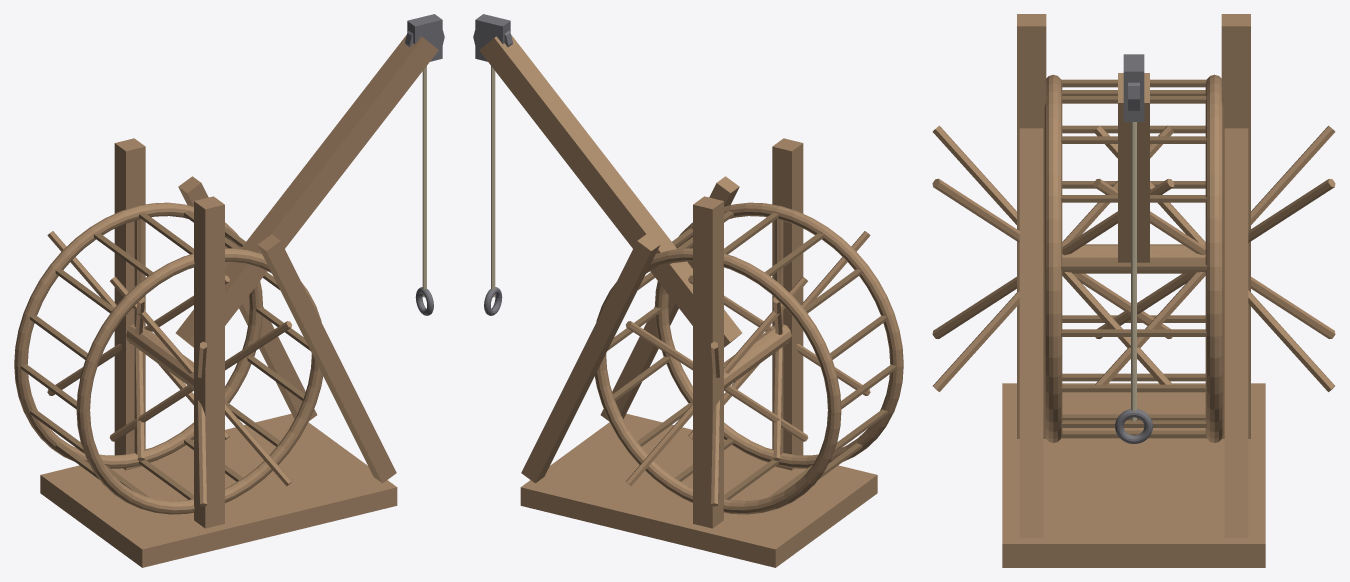
Rendered from treadwheel_crane.glb.
The picture shows the model from 3 angles, left to right: view 1: azimuth 30°, elevation 25°; view 2: azimuth 150°, elevation 25°; view 3: azimuth 270°, elevation 25°; orthographic projection. The views are drawn at different scales.
Parts seen in each view (by area): view 1: Cube, Cube.021, Cube.001, Torus, Torus.001, Cube.003, Cube.002, Cube.004, Cylinder, Cylinder.006, Cylinder.002, Cylinder.014 (+7 smaller); view 2: Cube, Cube.021, Cube.003, Torus.001, Torus, Cube.001, Cube.004, Cube.002, Cylinder, Cylinder.009, Cylinder.011, Cylinder.014 (+7 smaller); view 3: Cube, Cube.002, Cube.004, Torus, Torus.001, Cube.001, Cube.003, Cube.021, Cylinder.003, Cylinder.012, Cylinder, Cylinder.006 (+23 smaller).
Part boxes in pixels (left/top/right/bottom): Cube: left=40, top=413, right=397, bottom=567; Cube.021: left=175, top=35, right=438, bottom=347; Cube.001: left=194, top=196, right=224, bottom=528; Torus: left=76, top=248, right=323, bottom=514; Torus.001: left=14, top=202, right=263, bottom=468; Cube.003: left=114, top=138, right=145, bottom=470; Cube.002: left=257, top=234, right=396, bottom=483; Cube.004: left=178, top=176, right=317, bottom=420; Cylinder: left=126, top=324, right=223, bottom=401; Cylinder.006: left=110, top=276, right=291, bottom=486; Cylinder.002: left=109, top=321, right=291, bottom=441; Cylinder.014: left=422, top=66, right=426, bottom=297; Cube: left=520, top=413, right=877, bottom=567; Cube.021: left=479, top=35, right=742, bottom=347; Cube.003: left=693, top=196, right=723, bottom=528; Torus.001: left=594, top=248, right=841, bottom=514; Torus: left=654, top=202, right=903, bottom=468; Cube.001: left=772, top=138, right=803, bottom=470; Cube.004: left=521, top=234, right=660, bottom=483; Cube.002: left=600, top=176, right=739, bottom=420; Cylinder: left=693, top=324, right=791, bottom=400; Cylinder.009: left=626, top=276, right=807, bottom=486; Cylinder.011: left=626, top=321, right=808, bottom=441; Cylinder.014: left=491, top=66, right=495, bottom=297; Cube: left=1002, top=383, right=1265, bottom=567; Cube.002: left=1019, top=128, right=1043, bottom=537; Cube.004: left=1224, top=128, right=1248, bottom=537; Torus: left=1044, top=74, right=1062, bottom=442; Torus.001: left=1205, top=74, right=1223, bottom=442; Cube.001: left=1017, top=14, right=1046, bottom=438; Cube.003: left=1221, top=14, right=1250, bottom=438; Cube.021: left=1118, top=73, right=1149, bottom=273; Cylinder.003: left=932, top=125, right=1172, bottom=384; Cylinder.012: left=1095, top=125, right=1335, bottom=384; Cylinder: left=1062, top=244, right=1205, bottom=273; Cylinder.006: left=933, top=125, right=1174, bottom=391.
Size of the model in its own units: 4.04 by 4.18 by 2.75.
